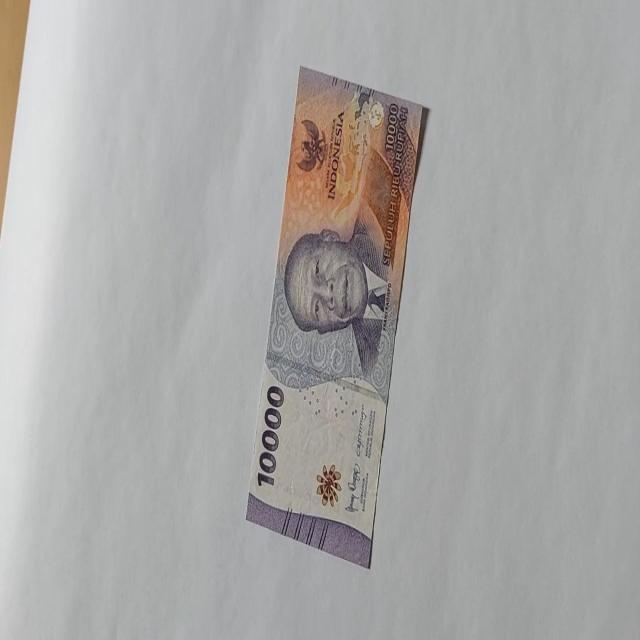Kertas: (243, 64, 429, 569)
